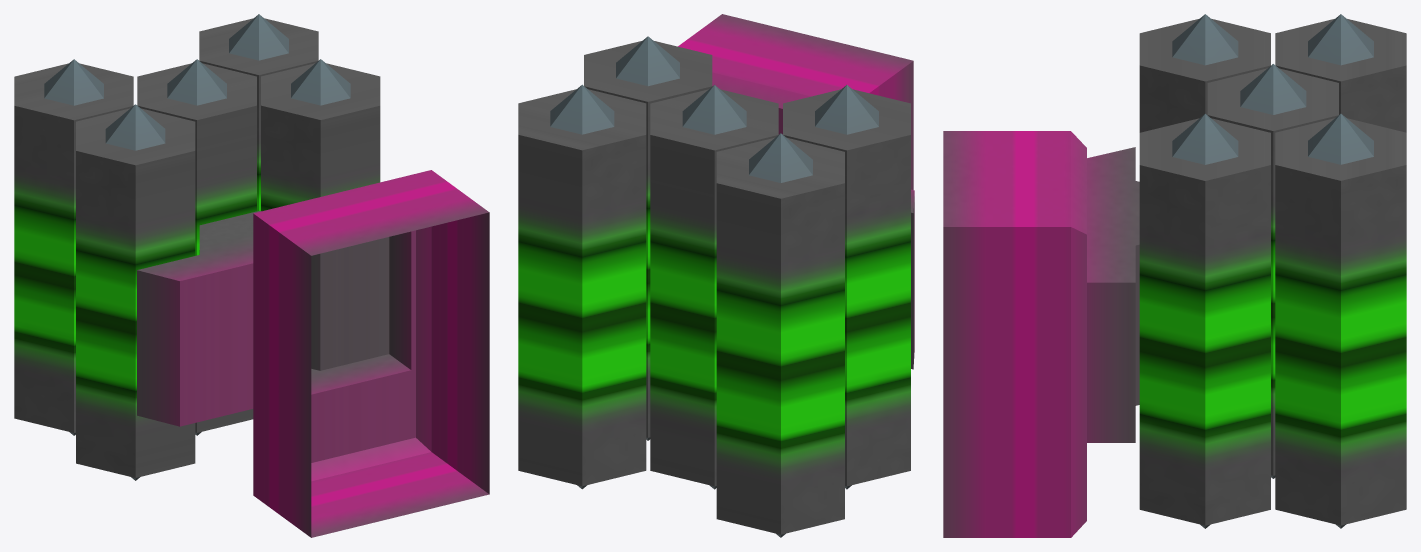
File: EngineBlockBIG.FBX
3 renders of one model, left to right at view 1: azimuth 30°, elevation 25°; view 2: azimuth 150°, elevation 25°; view 3: azimuth 270°, elevation 25°, orthographic. The views are drawn at different scales.
Visible parts, largest first — view 1: Box005; view 2: Box005; view 3: Box005.
Part boxes in pixels (x1=…): Box005: x1=14, y1=14, x2=489, y2=537; Box005: x1=518, y1=14, x2=914, y2=537; Box005: x1=943, y1=14, x2=1406, y2=537.
Size of the model in its own units: 59.77 by 70.7 by 71.48.
1 material, 1 textured.
